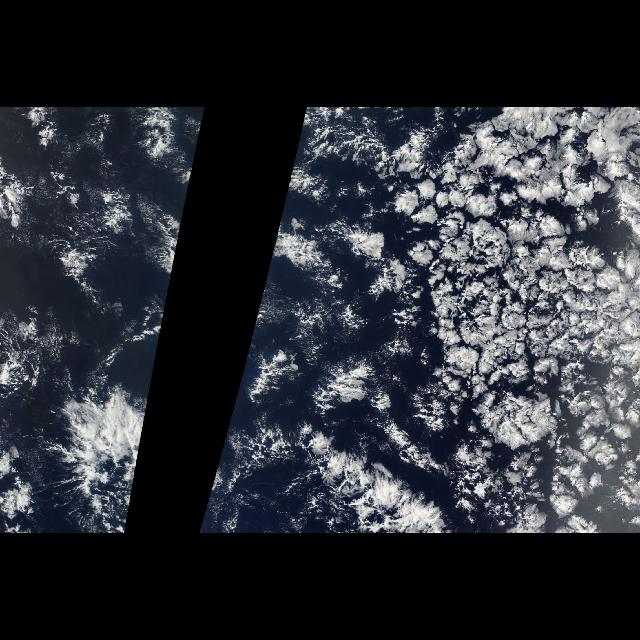Fish: (215, 421, 450, 534)
Flower: (210, 110, 636, 528), (2, 111, 206, 534)
